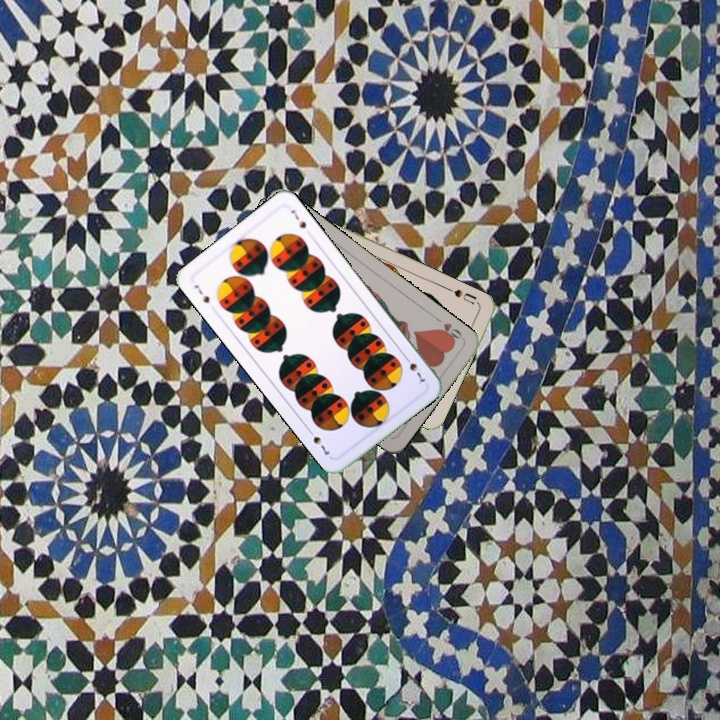HO: (431, 313, 466, 345)
S7: (400, 351, 428, 385), (190, 280, 212, 306)
SU: (443, 284, 479, 307)
